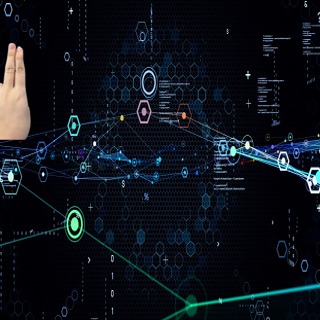DHAVE: (1, 40, 33, 139)
